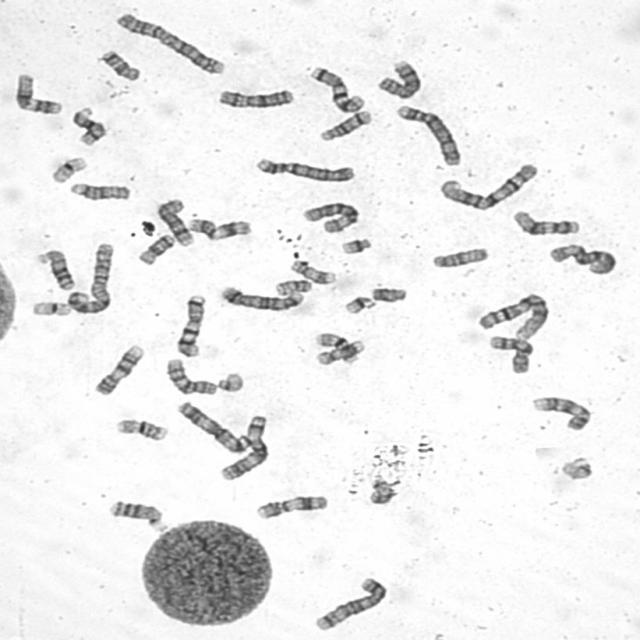A1: (435, 160, 540, 212), (474, 290, 551, 343)
A2: (111, 9, 228, 76), (63, 240, 116, 315)
A3: (173, 398, 252, 455), (216, 412, 270, 482)
B4: (393, 101, 463, 168), (252, 155, 357, 184)
B5: (310, 574, 390, 633), (217, 282, 306, 312)
C10: (161, 355, 219, 397), (487, 332, 535, 376)
C11: (251, 492, 330, 520), (185, 215, 253, 242)
C12: (10, 70, 63, 116), (509, 207, 582, 237)
C6: (546, 240, 618, 276), (298, 198, 361, 234)
C7: (306, 63, 366, 114), (173, 292, 208, 358)
C8: (152, 195, 196, 248), (374, 57, 424, 101)
C9: (90, 341, 146, 397), (528, 393, 592, 432)
D13: (106, 497, 168, 532), (32, 246, 76, 292)
D14: (316, 106, 373, 142), (67, 104, 108, 147)
D15: (428, 244, 490, 270), (66, 180, 132, 202)
E16: (311, 331, 361, 366), (112, 415, 169, 443)
E17: (313, 337, 367, 366), (286, 257, 338, 286)
E18: (97, 46, 142, 82), (134, 230, 176, 266)
F19: (47, 153, 89, 185), (28, 298, 72, 318)
F20: (364, 474, 397, 511), (272, 276, 314, 297)
G21: (342, 294, 378, 316), (337, 235, 373, 256)
G22: (556, 454, 601, 485), (213, 369, 246, 394)
X: (214, 85, 296, 110)
Y: (368, 284, 408, 304)
